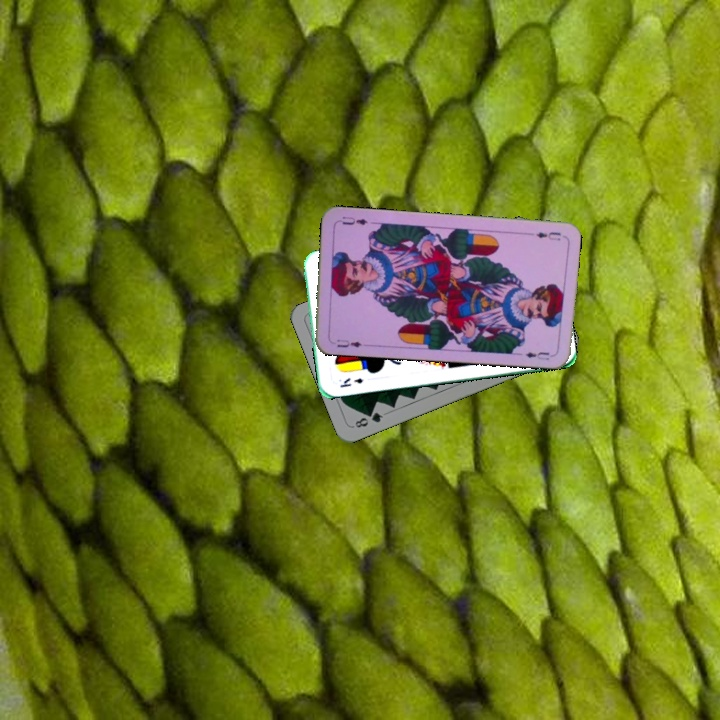EK: (336, 374, 365, 390)
EU: (328, 335, 365, 350), (532, 228, 563, 243)
G8: (351, 408, 386, 430)
